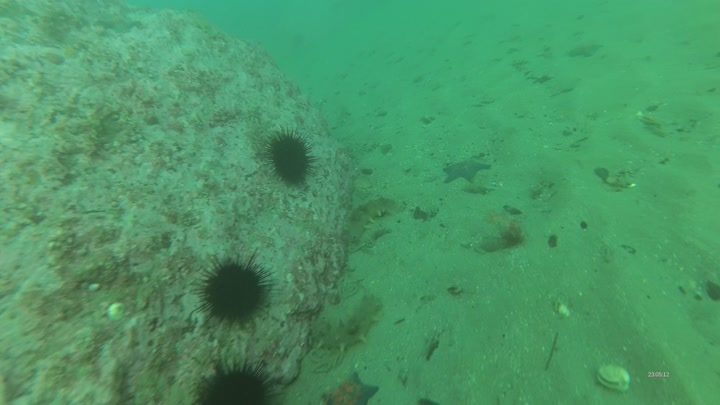echinus: (190, 251, 281, 332), (186, 358, 285, 405), (263, 124, 320, 190)
holothurian: (317, 293, 383, 352), (344, 198, 399, 246)
scallop: (597, 365, 632, 394)
starfish: (320, 370, 379, 405), (444, 155, 493, 185), (568, 43, 606, 59)
